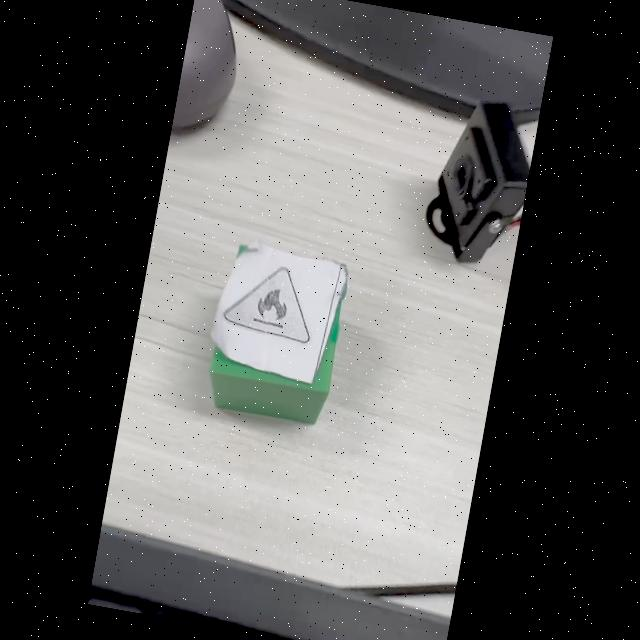Fire: (223, 266, 309, 342)
